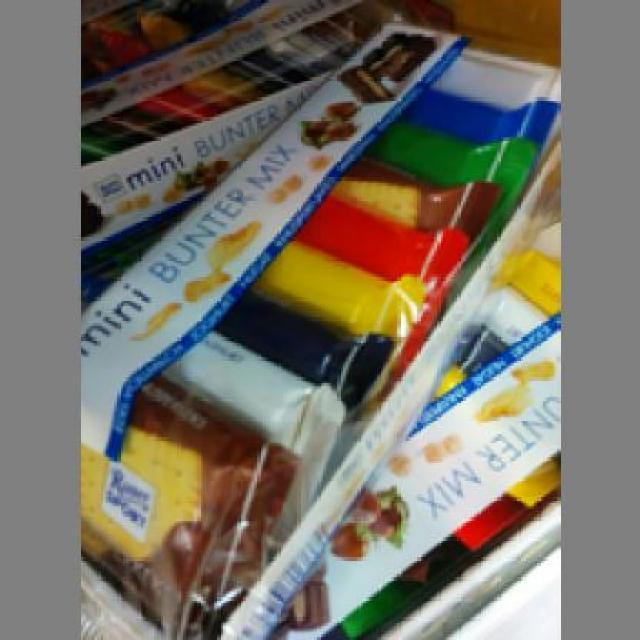Chocolate: (79, 22, 555, 638)
